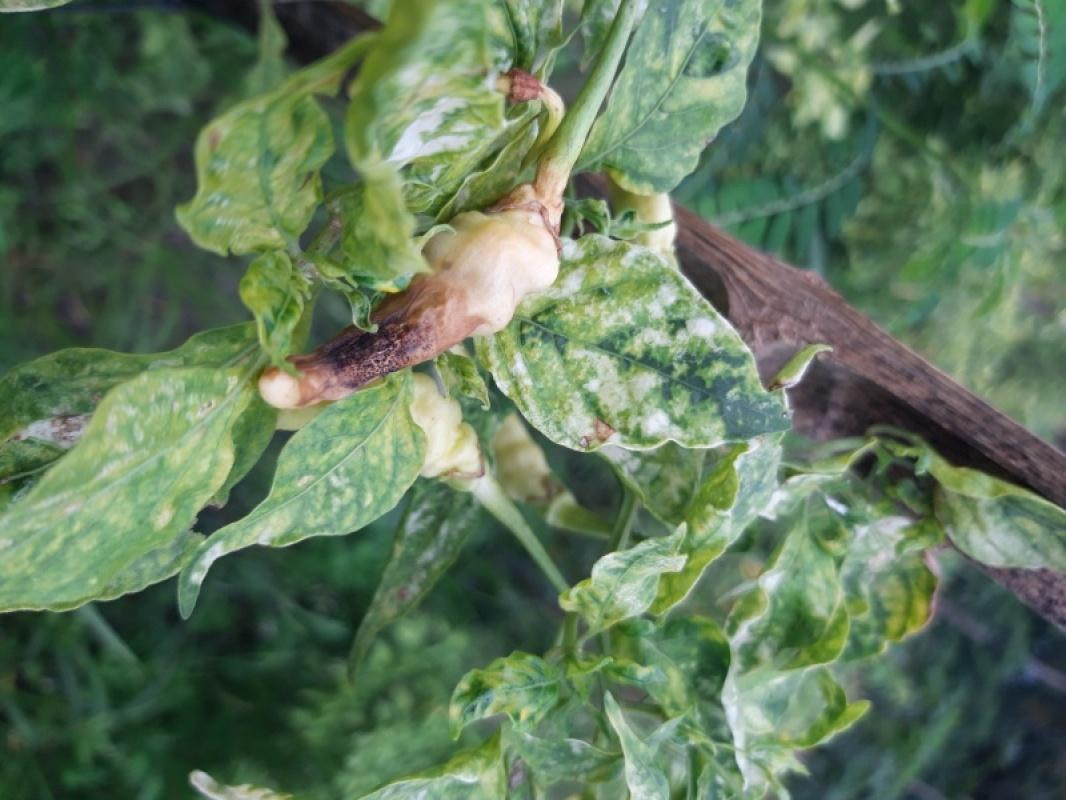antraknosa: (257, 207, 561, 411)
